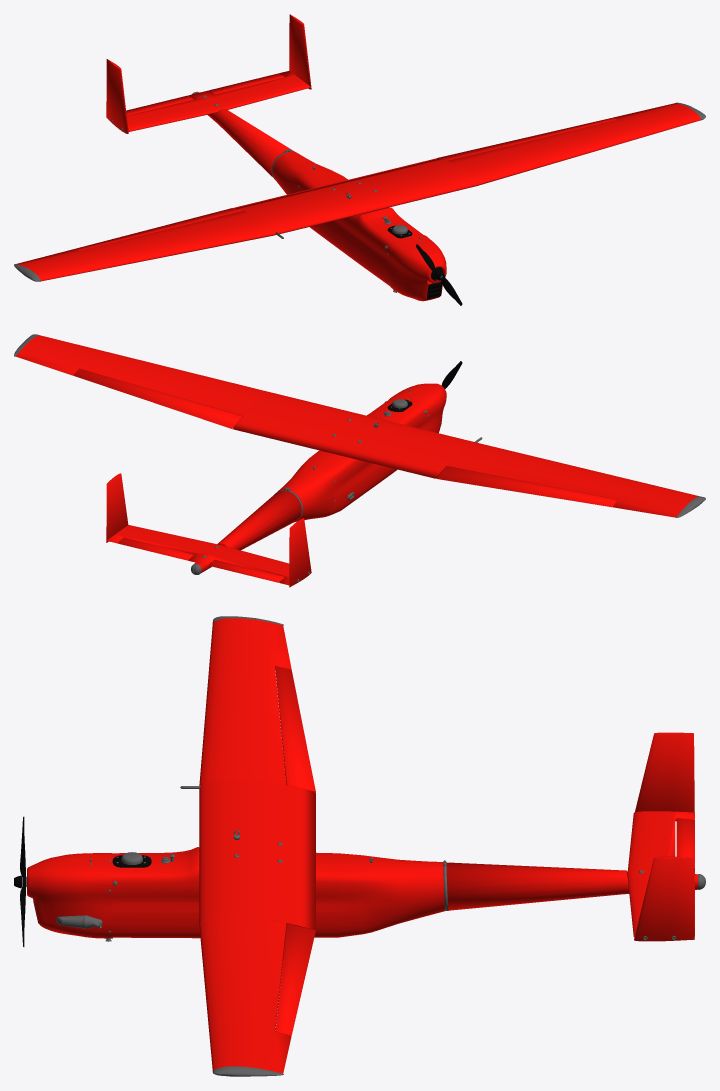
Rendered from red_geoscan_anim2.fbx.
3 renders of one model, top to bottom at view 1: azimuth 30°, elevation 25°; view 2: azimuth 150°, elevation 25°; view 3: azimuth 270°, elevation 25°, orthographic. The views are drawn at different scales.
Parts seen in each view (by area): view 1: ПЛАС_797121_001_Заготовка_центроплана_G, Fly; view 2: ПЛАС_797121_001_Заготовка_центроплана_G, Цилиндр_5; view 3: ПЛАС_797121_001_Заготовка_центроплана_G, Цилиндр_5, Объект_Полигон_9.
Part boxes in pixels (x1,y1,x2,y2): ПЛАС_797121_001_Заготовка_центроплана_G: [16, 14, 700, 301]; Fly: [416, 244, 462, 305]; ПЛАС_797121_001_Заготовка_центроплана_G: [16, 335, 699, 587]; Цилиндр_5: [191, 389, 482, 581]; ПЛАС_797121_001_Заготовка_центроплана_G: [27, 618, 697, 1073]; Цилиндр_5: [56, 786, 705, 941]; Объект_Полигон_9: [212, 616, 283, 1076].
Size of the model in its own units: 333 by 47.7 by 213.
